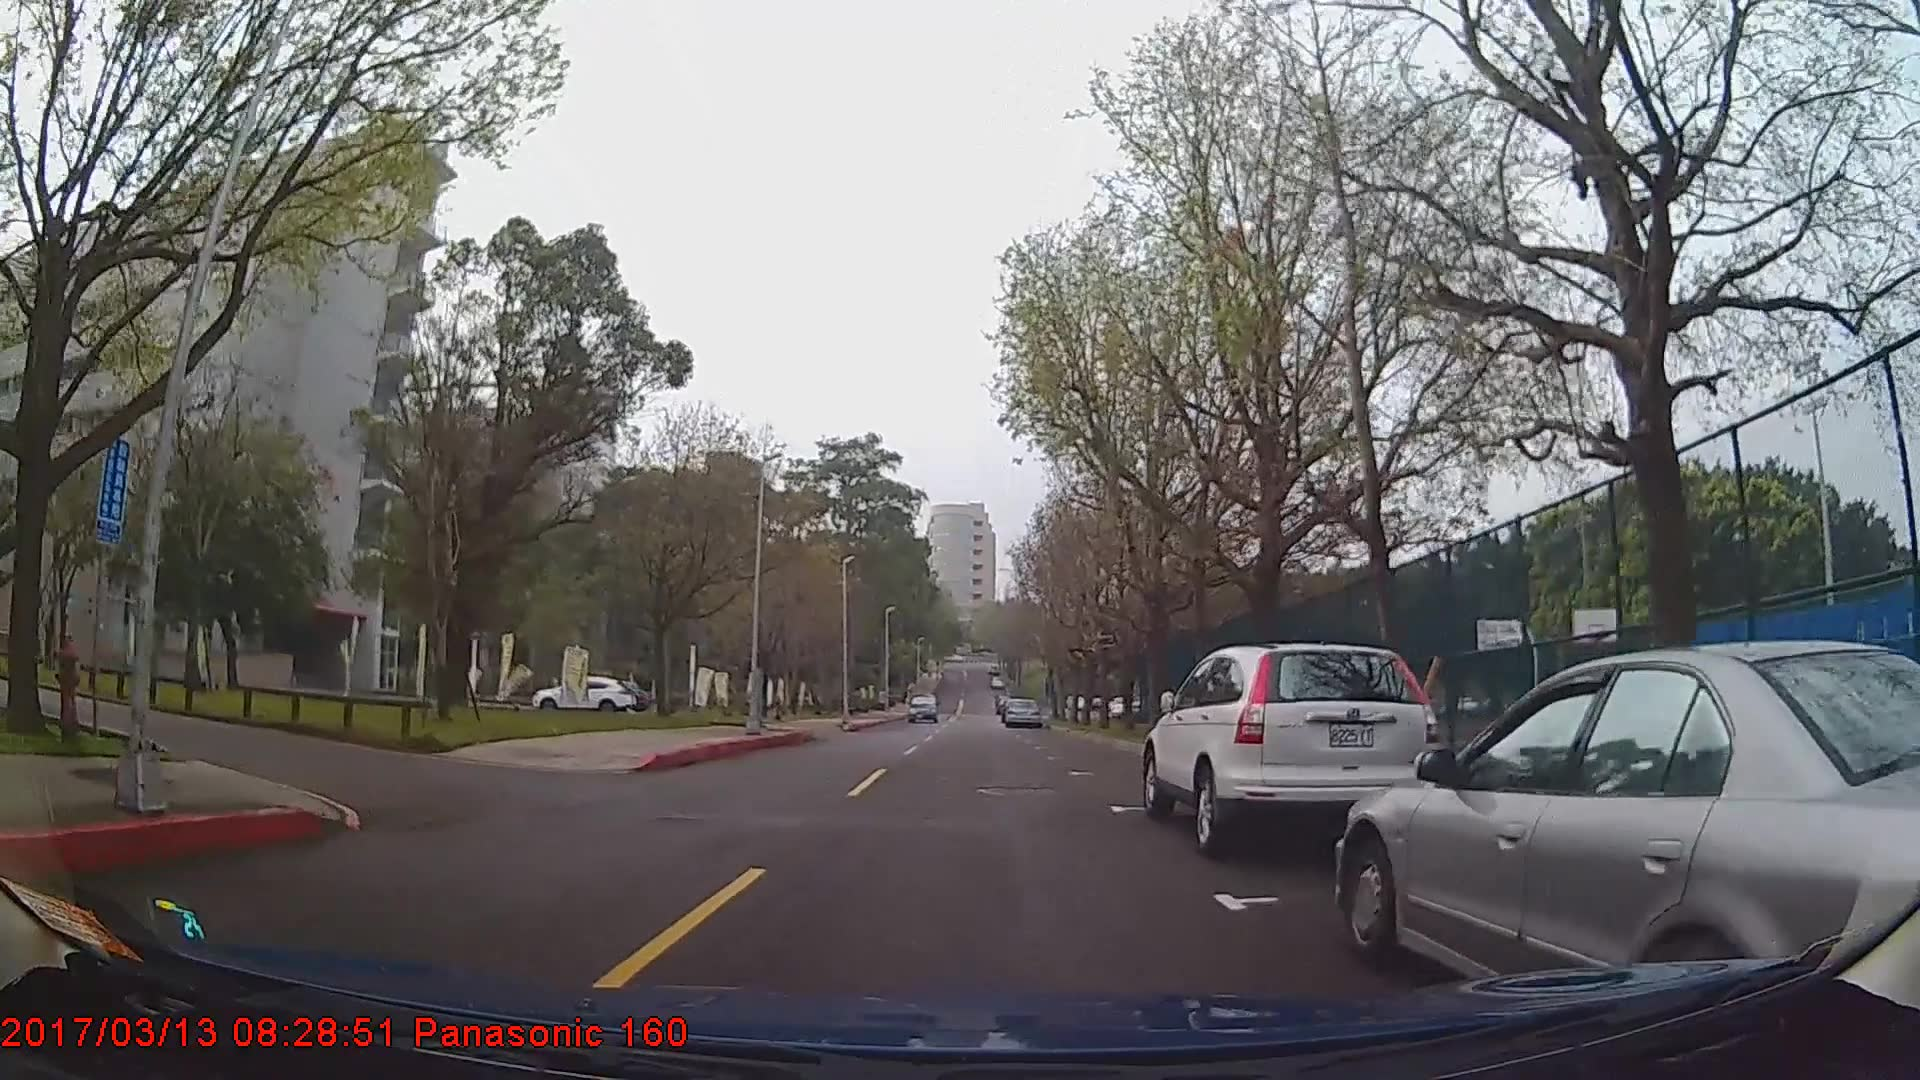vehicle: (1337, 636, 1920, 1011), (1139, 645, 1444, 861), (529, 675, 636, 713), (1002, 698, 1040, 729), (905, 692, 940, 723)
